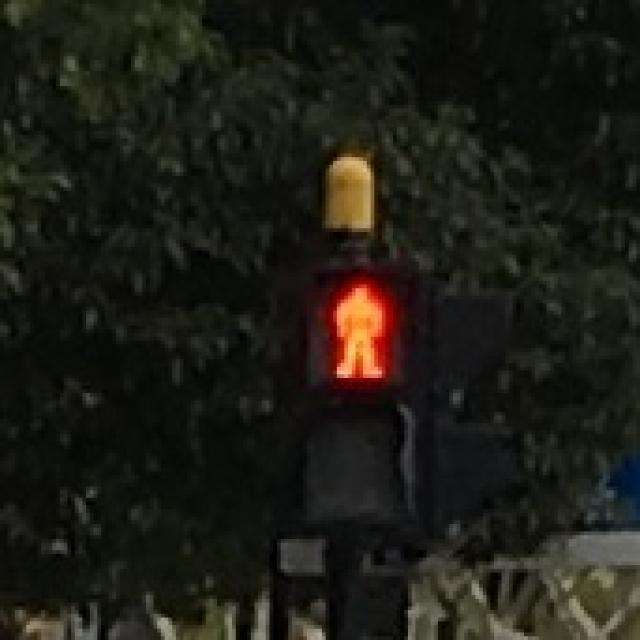red-crossing: (314, 273, 397, 386)
